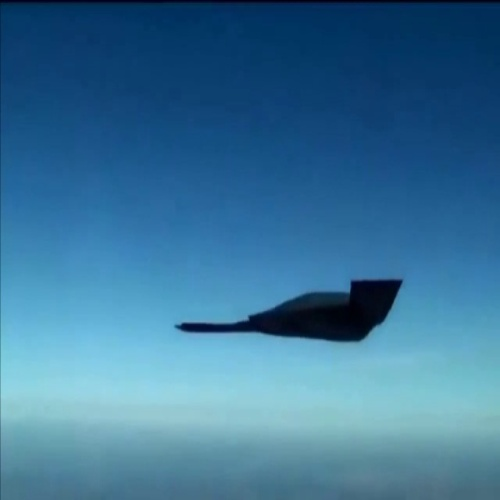uav: (168, 275, 403, 347)
